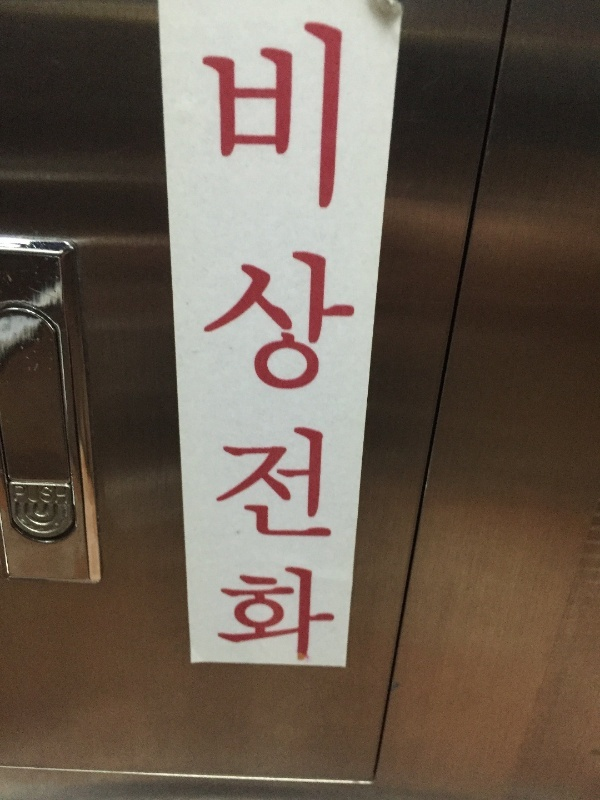text: (209, 18, 224, 675), (225, 18, 240, 675), (241, 18, 256, 675), (257, 18, 272, 675), (273, 18, 288, 675), (289, 18, 304, 675), (305, 18, 320, 675), (321, 18, 336, 675), (337, 18, 352, 675), (201, 18, 208, 675), (353, 18, 359, 675)
